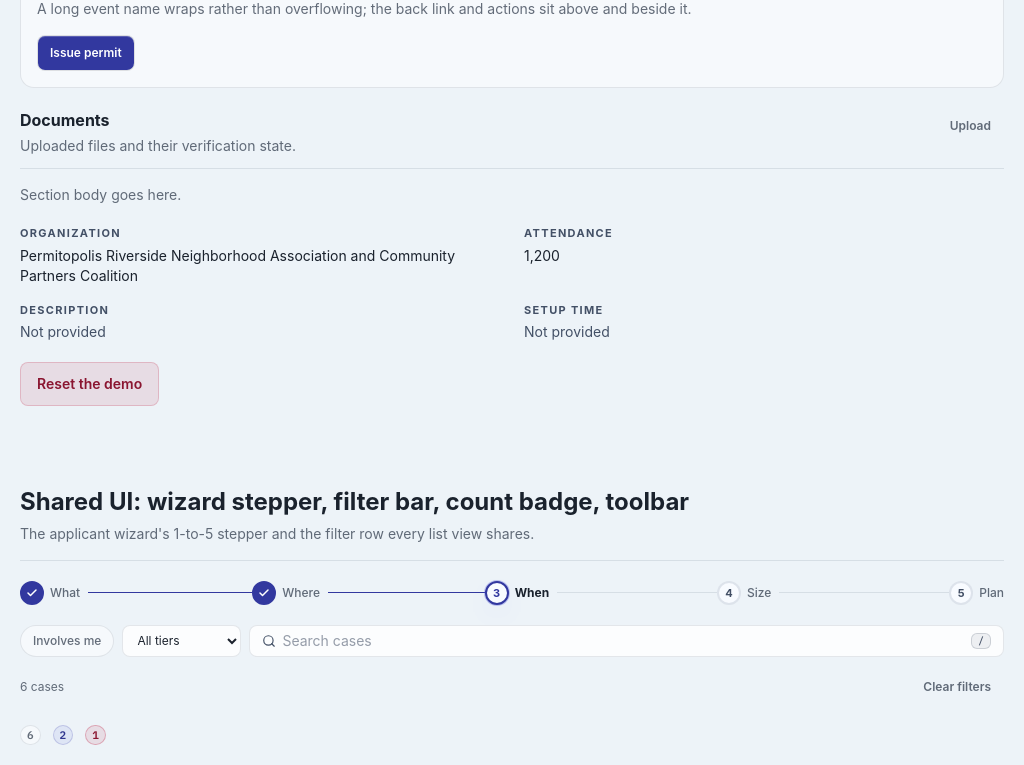
Test: the Phase 1 kit page › shared building blocks (Part 2) › confirms a destructive action through ConfirmDialog, never window.confirm
The image size is (1024, 765).
(page scrolled)
Click the button "Reset the demo": click(90, 384) left=20, top=362, right=159, bottom=406
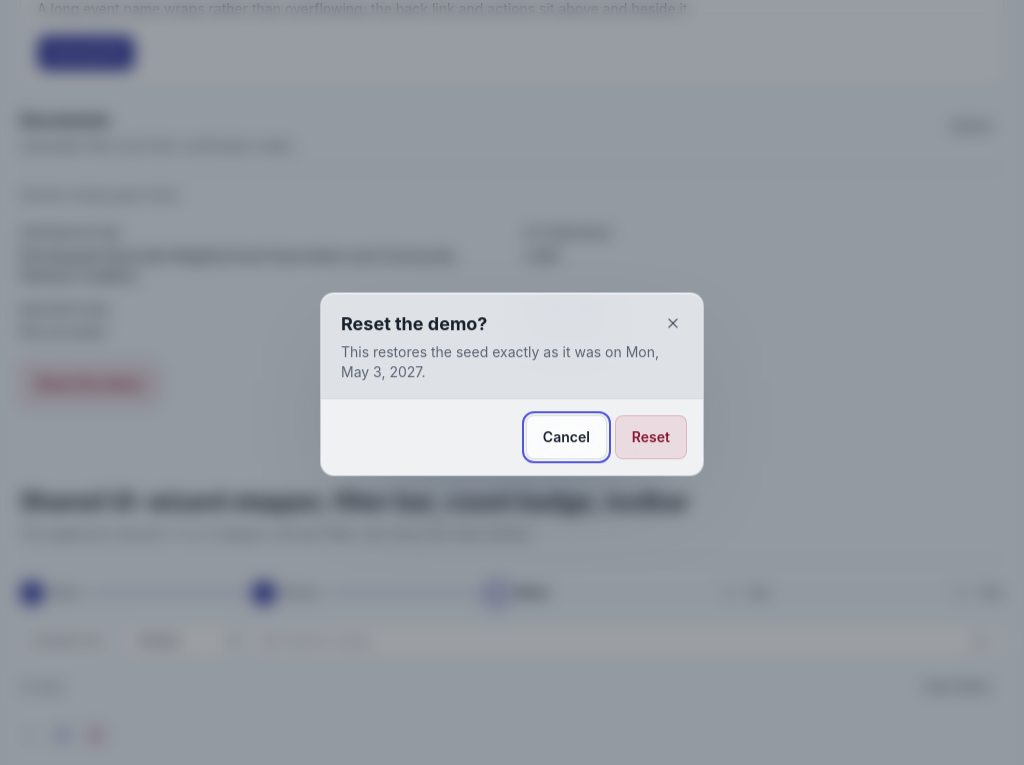
Result: the dialog "Reset the demo?" is shown at left=320, top=292, right=704, bottom=476
